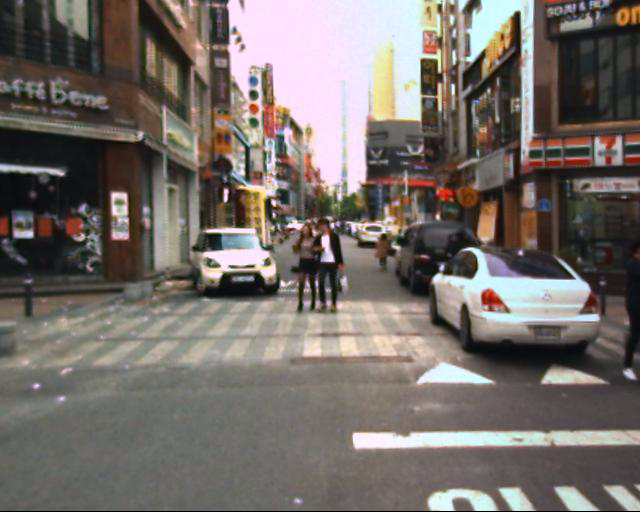person: (311, 211, 350, 318), (288, 211, 321, 325), (373, 222, 396, 279)
